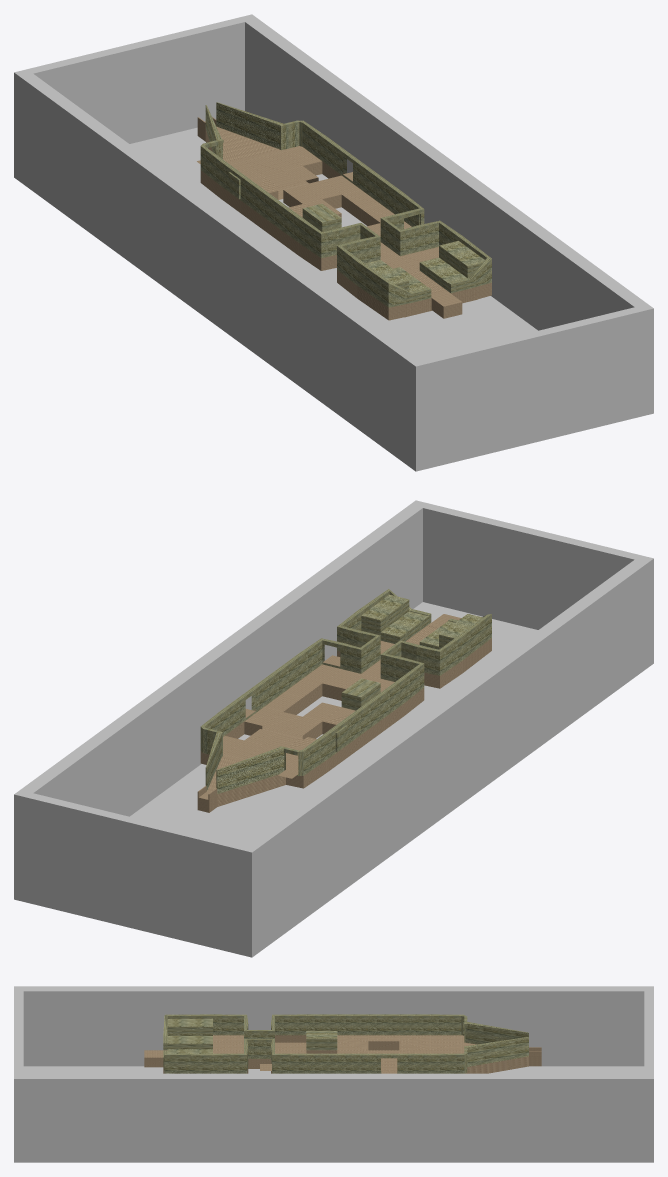
File: stage2.fbx
3 views of the same model, one above another, from view 1: azimuth 30°, elevation 25°; view 2: azimuth 150°, elevation 25°; view 3: azimuth 270°, elevation 25° (orthographic). The views are drawn at different scales.
Visible parts, largest first — view 1: Box001, Box002, Box003; view 2: Box001, Box002; view 3: Box001, Box002, Box003.
Part boxes in pixels (box(x1,y1,x2,y2)): Box001: box(14, 14, 653, 471); Box002: box(197, 102, 491, 320); Box003: box(431, 290, 462, 318); Box001: box(14, 500, 653, 957); Box002: box(197, 589, 491, 812); Box001: box(14, 986, 653, 1162); Box002: box(163, 1014, 541, 1073); Box003: box(144, 1050, 167, 1067).
Size of the model in its own units: 10222 by 29879 by 4311.
